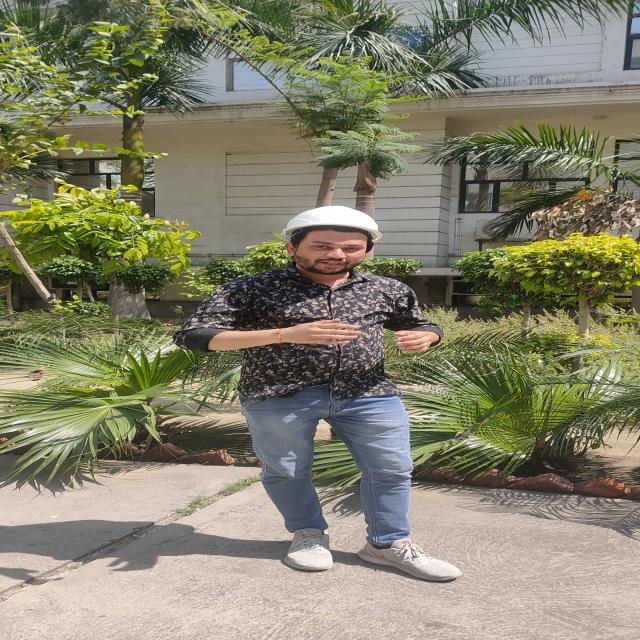no jacket: (237, 205, 414, 570)
